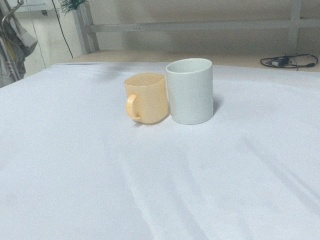cup: (165, 58, 215, 126), (125, 71, 171, 125)
